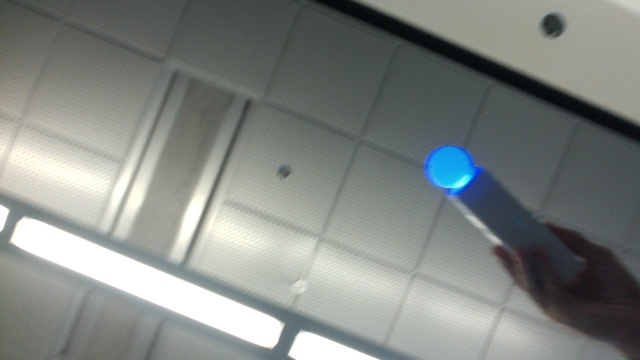wand: (427, 146, 473, 188)
